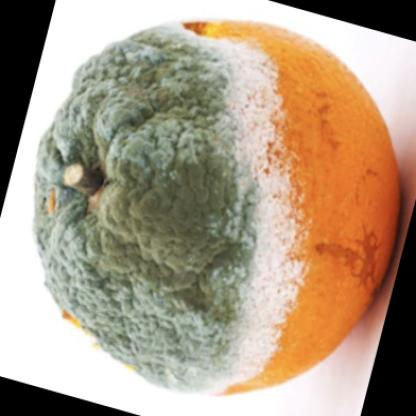rotten: (34, 23, 402, 395)
